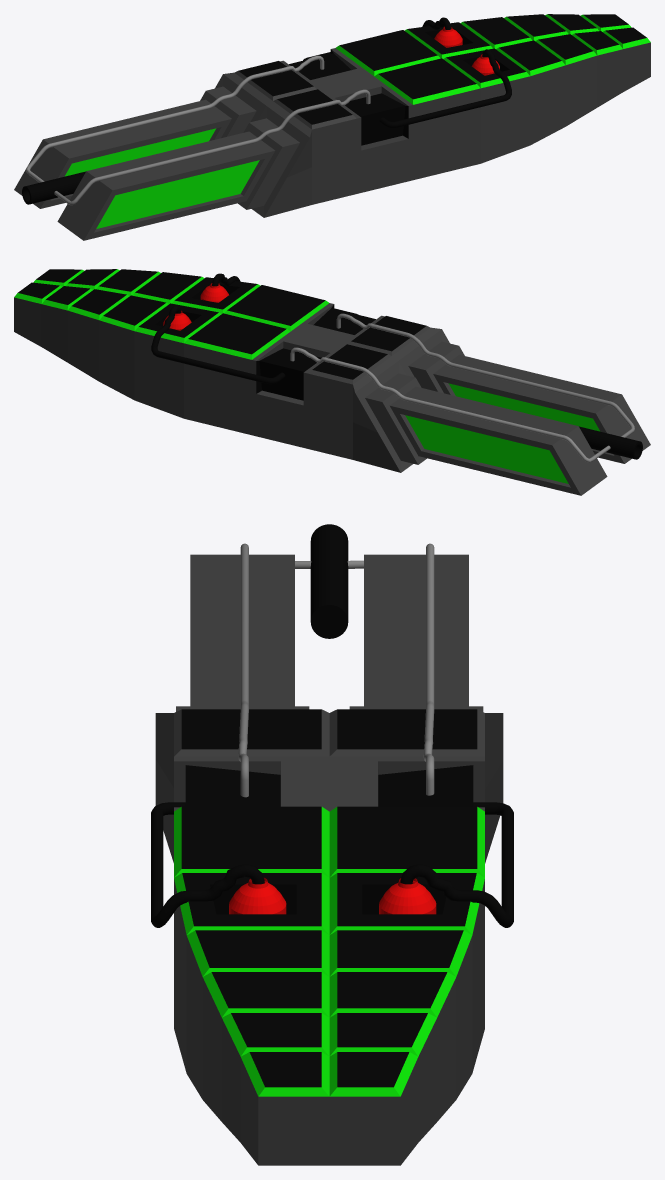
The model's file is GunLaser.fbx.
3 renders of one model, top to bottom at view 1: azimuth 30°, elevation 25°; view 2: azimuth 150°, elevation 25°; view 3: azimuth 270°, elevation 25°, orthographic. The views are drawn at different scales.
Parts seen in each view (by area): view 1: Cube.002, Plane.001, Plane.002, Plane.004, Cylinder.004; view 2: Cube.002, Plane.002, Plane.001, Plane.004, Cylinder.004; view 3: Cube.002, Plane.004, Cylinder.004, Plane.002, Plane.001.
Part boxes in pixels (<box>): Cube.002: <box>14,14,650,240</box>; Plane.001: <box>54,89,370,205</box>; Plane.002: <box>26,55,324,182</box>; Plane.004: <box>303,17,511,127</box>; Cylinder.004: <box>22,171,85,204</box>; Cube.002: <box>14,269,650,495</box>; Plane.002: <box>290,347,610,462</box>; Plane.001: <box>336,313,634,437</box>; Plane.004: <box>151,273,358,384</box>; Cylinder.004: <box>579,426,642,459</box>; Cube.002: <box>155,554,503,1165</box>; Plane.004: <box>151,802,513,927</box>; Cylinder.004: <box>310,524,348,638</box>; Plane.002: <box>347,543,434,795</box>; Plane.001: <box>238,543,311,797</box>.
Size of the model in its own units: 336 by 53.54 by 87.
